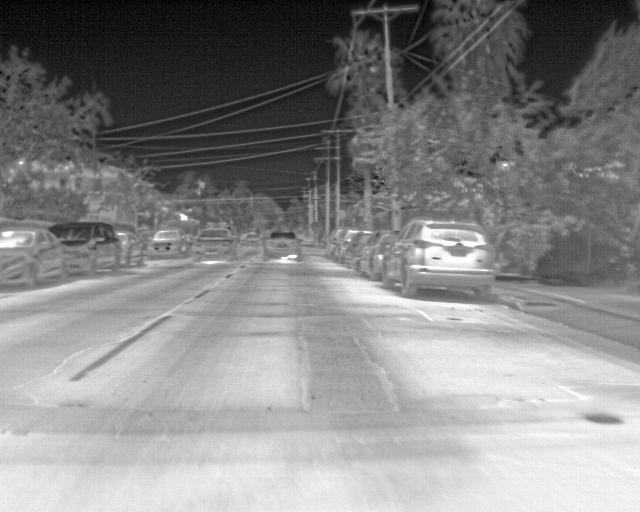bicycle: (381, 216, 495, 298), (0, 224, 66, 287), (47, 221, 121, 274), (352, 227, 399, 279), (194, 226, 238, 262), (147, 227, 191, 258), (262, 229, 303, 260), (339, 233, 374, 268), (114, 229, 142, 266), (333, 227, 358, 264), (243, 230, 261, 247)
